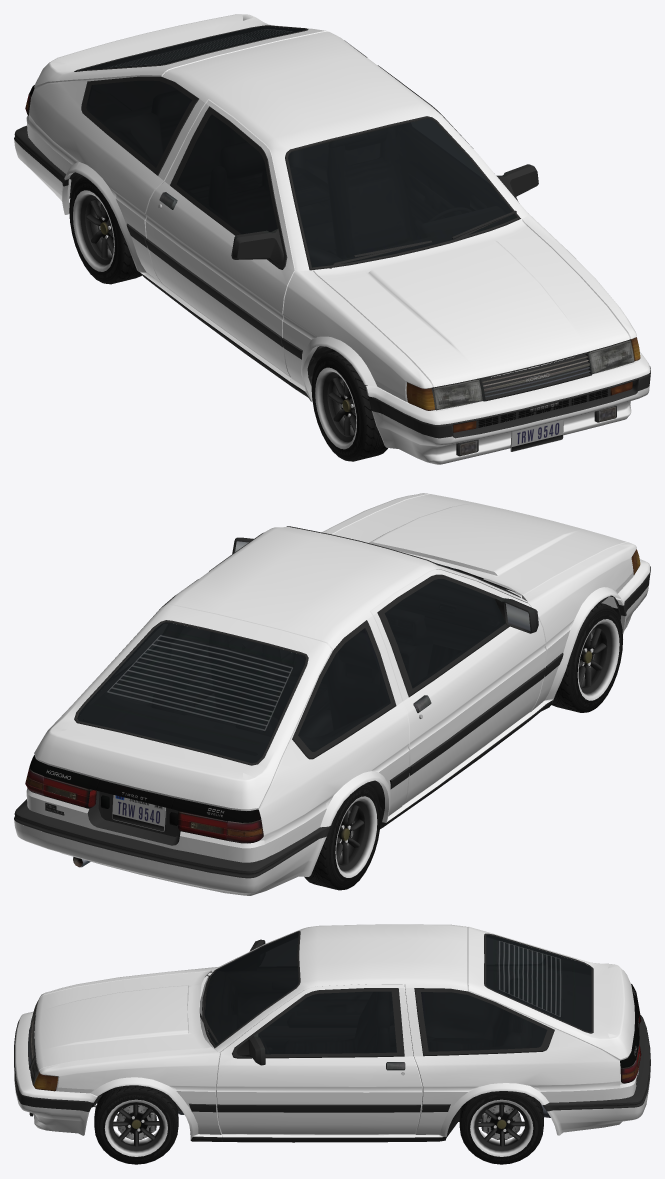
Rendered from tiara-gt-83-tuned-low-poly-model-59a0ea.glb.
3 views of the same model, one above another, from view 1: azimuth 30°, elevation 25°; view 2: azimuth 150°, elevation 25°; view 3: azimuth 270°, elevation 25° (orthographic). The views are drawn at different scales.
Parts seen in each view (by area): view 1: body, wheel-front-right, wheel-back-right; view 2: body, wheel-back-right, wheel-front-right; view 3: body, wheel-front-left, wheel-back-left.
Part boxes in pixels (x1=…): body: x1=14, y1=14, x2=650, y2=464; wheel-front-right: x1=311, y1=351, x2=387, y2=461; wheel-back-right: x1=25, y1=106, x2=141, y2=284; body: x1=14, y1=493, x2=650, y2=895; wheel-back-right: x1=178, y1=783, x2=380, y2=890; wheel-front-right: x1=551, y1=602, x2=622, y2=712; body: x1=14, y1=924, x2=650, y2=1142; wheel-front-left: x1=94, y1=1085, x2=178, y2=1164; wheel-back-left: x1=459, y1=1053, x2=641, y2=1164.
Bounding box in the file's own units: 1.74 × 1.22 × 4.17.
Materials: 8 (7 with a texture image).
